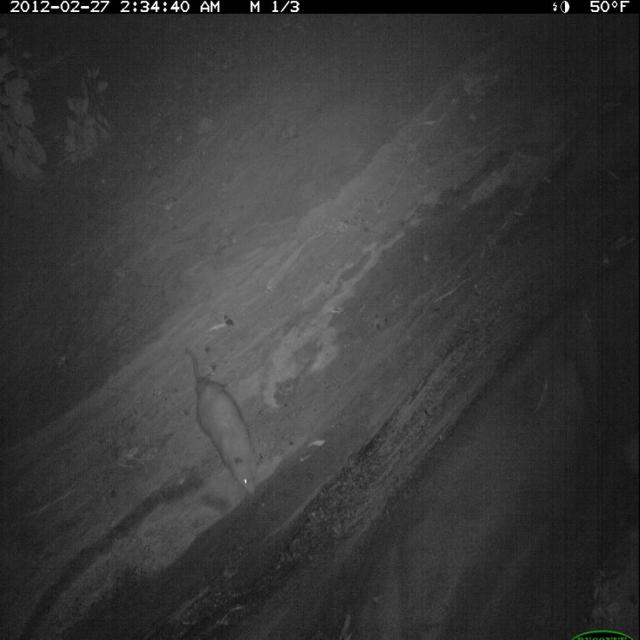opossum: (181, 339, 262, 500)
